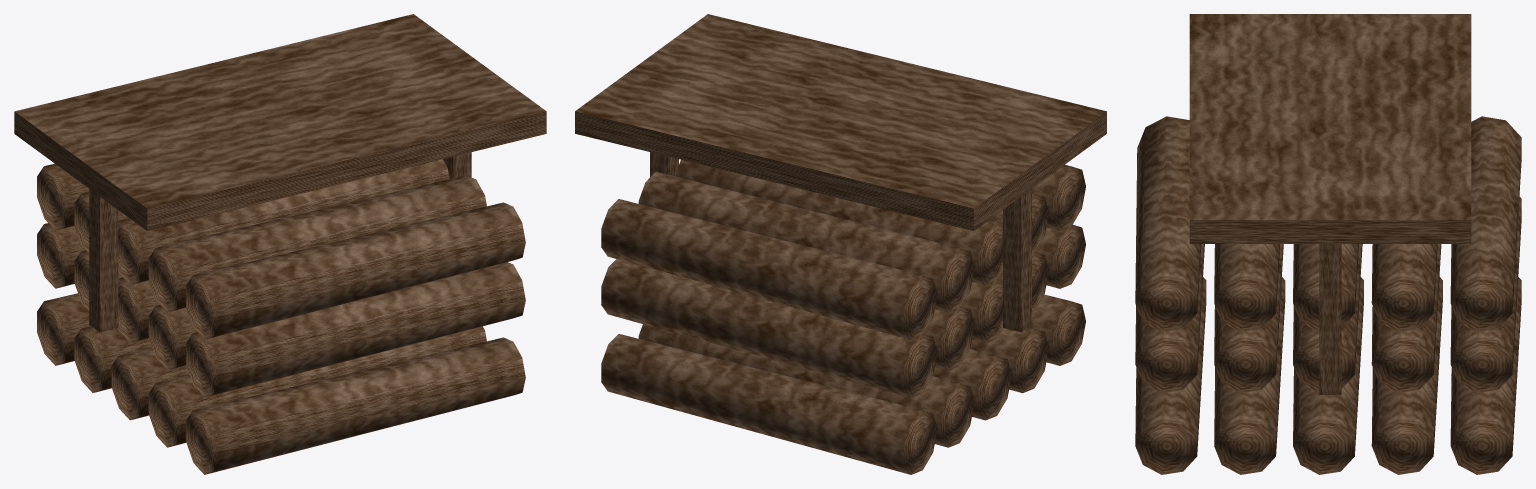
Rendered from woodpile.obj.
3 renders of one model, left to right at view 1: azimuth 30°, elevation 25°; view 2: azimuth 150°, elevation 25°; view 3: azimuth 270°, elevation 25°, orthographic. The views are drawn at different scales.
Parts seen in each view (by area): view 1: woodpile; view 2: woodpile; view 3: woodpile.
Boxes of the visible parts, left/top/right/bottom form: woodpile: left=14, top=14, right=546, bottom=474; woodpile: left=575, top=14, right=1106, bottom=474; woodpile: left=1135, top=14, right=1521, bottom=474.
Size of the model in its own units: 2.6 by 1.68 by 2.06.
Materials: 3 (3 with a texture image).
